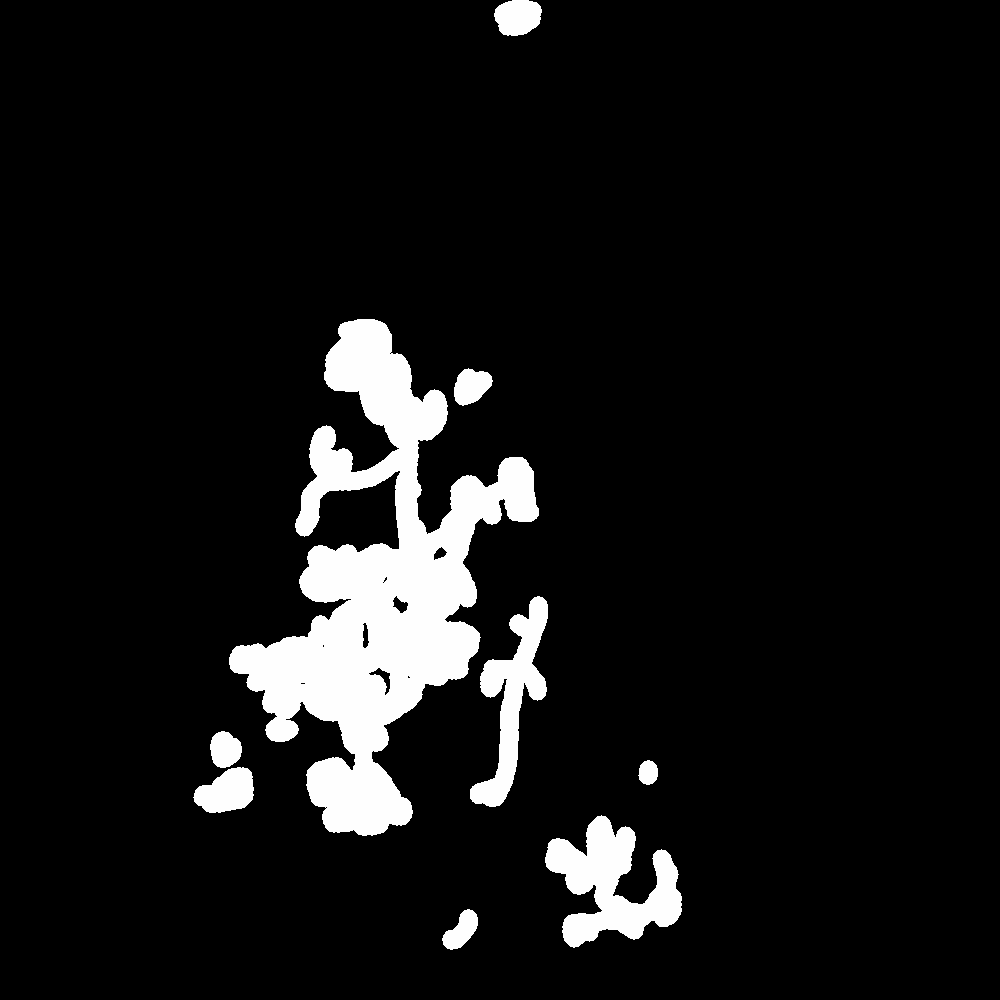illegal: (256, 321, 546, 861), (544, 756, 688, 955), (199, 733, 256, 824), (497, 2, 551, 44)
